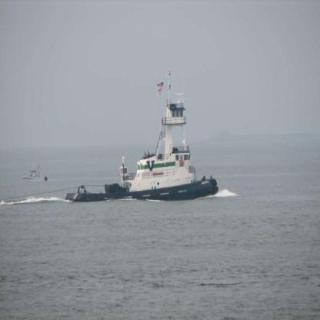Tug Boat: (68, 69, 205, 202)
